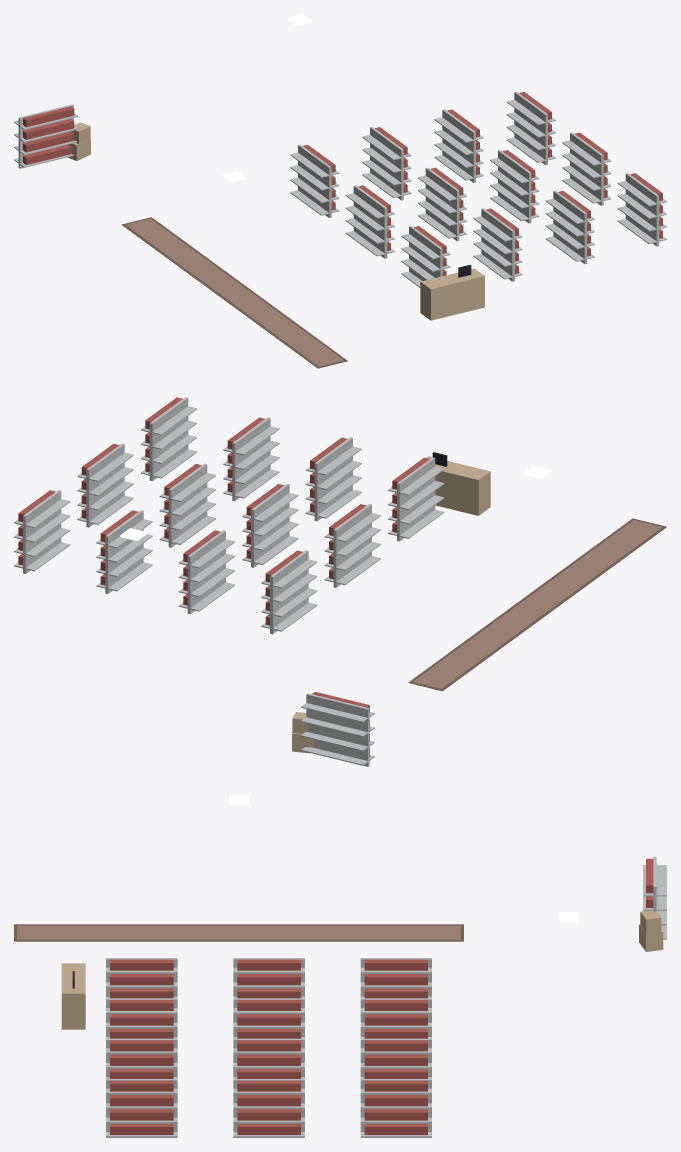
The model's file is fine-s0.glb.
The picture shows the model from 3 angles, top to bottom: view 1: azimuth 30°, elevation 25°; view 2: azimuth 150°, elevation 25°; view 3: azimuth 270°, elevation 25°; orthographic projection. The views are drawn at different scales.
Visible parts, largest first — view 1: soft-s0, shelving.000, shop-counter.000, shelf.004, shelf.010, shelf.005, shelf.007, shelf.000, shelf.001, shelf.003, shelf.006, shelf.011 (+4 smaller); view 2: soft-s0, shelving.000, shelf.010, shelf.007, shelf.004, shelf.008, shelf.000, shelf.002, shelf.009, shelf.011, shelf.003, shelf.005 (+4 smaller); view 3: soft-s0, shelf.009, shelf.010, shelf.011, shelf.001, shelf.002, shelf.003, shelf.004, shelf.005, shelf.007, shelf.008, shelf.000 (+4 smaller).
Boxes of the visible parts, <box> form: soft-s0: <box>121,217,347,368</box>; shelving.000: <box>14,104,78,168</box>; shop-counter.000: <box>420,265,484,320</box>; shelf.004: <box>418,167,466,240</box>; shelf.010: <box>562,132,611,205</box>; shelf.005: <box>473,208,522,281</box>; shelf.007: <box>490,150,539,223</box>; shelf.000: <box>290,144,339,217</box>; shelf.001: <box>345,185,394,258</box>; shelf.003: <box>362,127,411,200</box>; shelf.006: <box>434,109,483,182</box>; shelf.011: <box>617,173,666,246</box>; soft-s0: <box>408,518,666,691</box>; shelving.000: <box>301,691,374,766</box>; shelf.010: <box>77,443,133,527</box>; shelf.007: <box>159,463,215,547</box>; shelf.004: <box>242,483,298,567</box>; shelf.008: <box>223,417,279,501</box>; shelf.000: <box>261,550,317,634</box>; shelf.002: <box>388,457,444,541</box>; shelf.009: <box>14,490,70,573</box>; shelf.011: <box>141,397,196,481</box>; shelf.003: <box>178,530,234,614</box>; shelf.005: <box>305,437,361,521</box>; soft-s0: <box>14,924,463,941</box>; shelf.009: <box>360,1079,431,1137</box>; shelf.010: <box>233,1079,304,1137</box>; shelf.011: <box>106,1079,177,1137</box>; shelf.001: <box>233,958,304,998</box>; shelf.002: <box>106,958,177,998</box>; shelf.003: <box>360,998,431,1038</box>; shelf.004: <box>233,998,304,1038</box>; shelf.005: <box>106,998,177,1038</box>; shelf.007: <box>233,1038,304,1078</box>; shelf.008: <box>106,1038,177,1078</box>; shelf.000: <box>360,958,431,998</box>.
Bounding box in the file's own units: 13.58 × 3.72 × 16.43.
